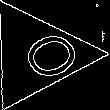O_SW: (0, 23, 75, 86)
